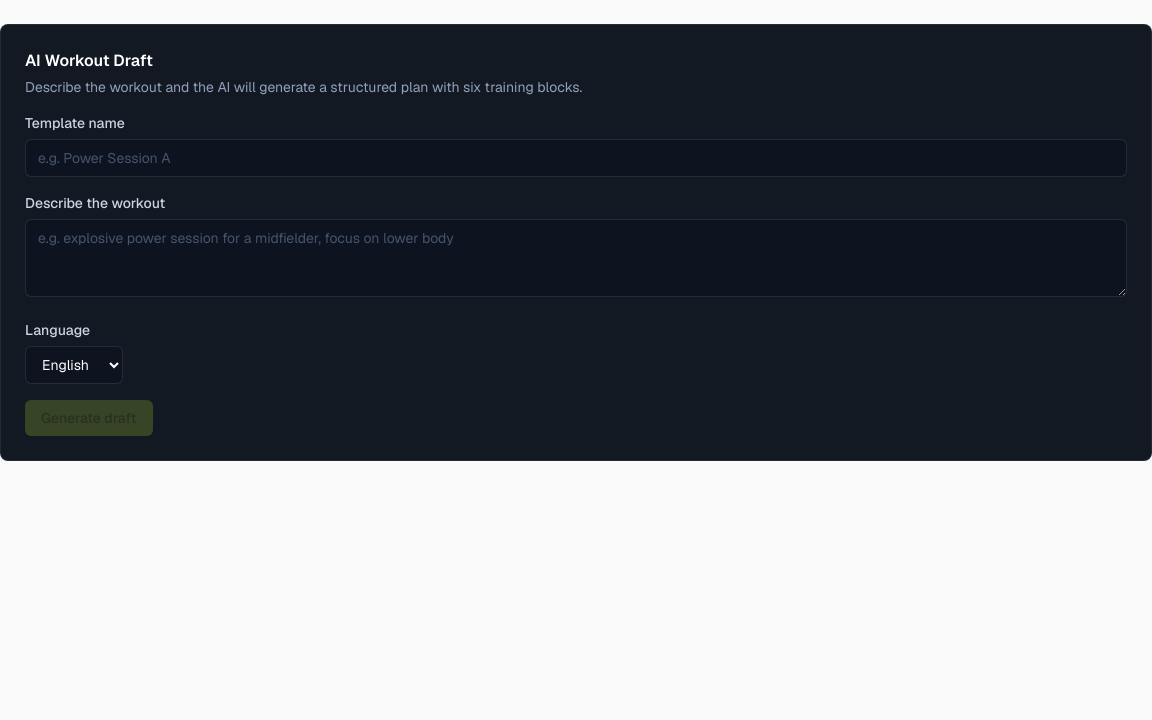
Test case: AiDraftPanel — fallback banner › shows fallback banner when source is "fallback"
Type "Power Session A" into the field labelled "Template name" at (576, 158), box [25,139,1127,177]
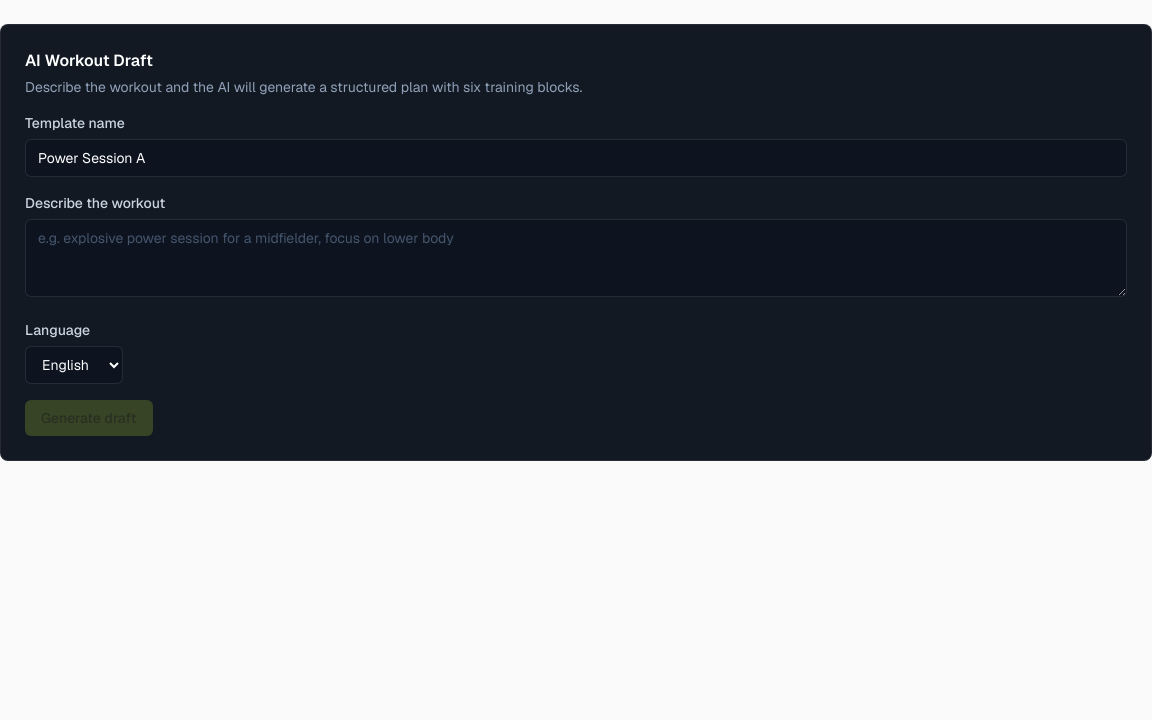
Replace the text in the text box labelled "Describe the workout" with "explosive power session" at (576, 258), box [25,219,1127,297]
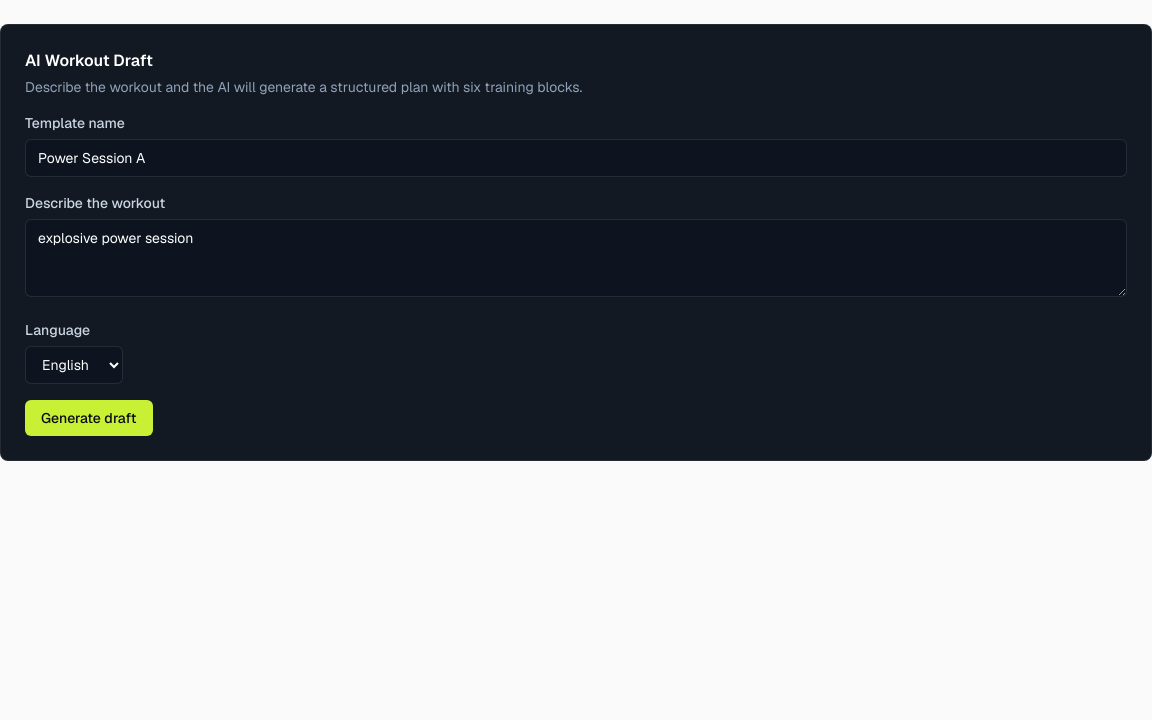
Click the button "Generate draft" at (89, 418), box [25,400,153,436]
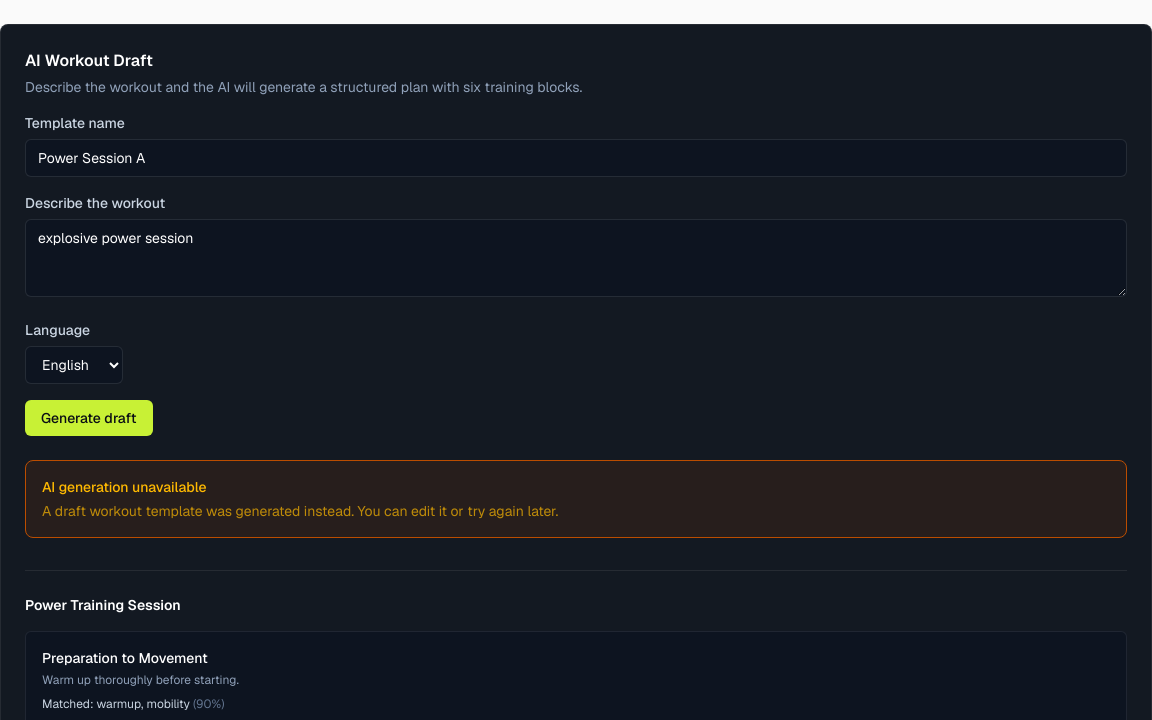
Now the text "AI generation unavailable" is shown, box [42,478,207,496]
Now the text "draft workout template was generated instead" is shown, box [42,502,558,520]
